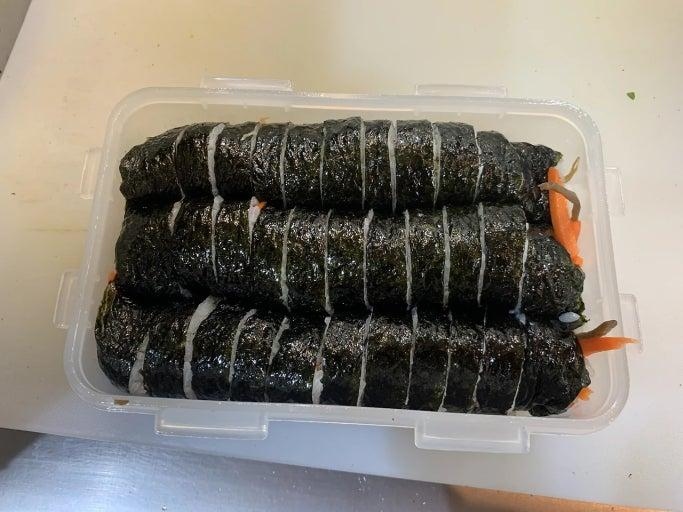Lunch Box: (54, 78, 640, 452)
